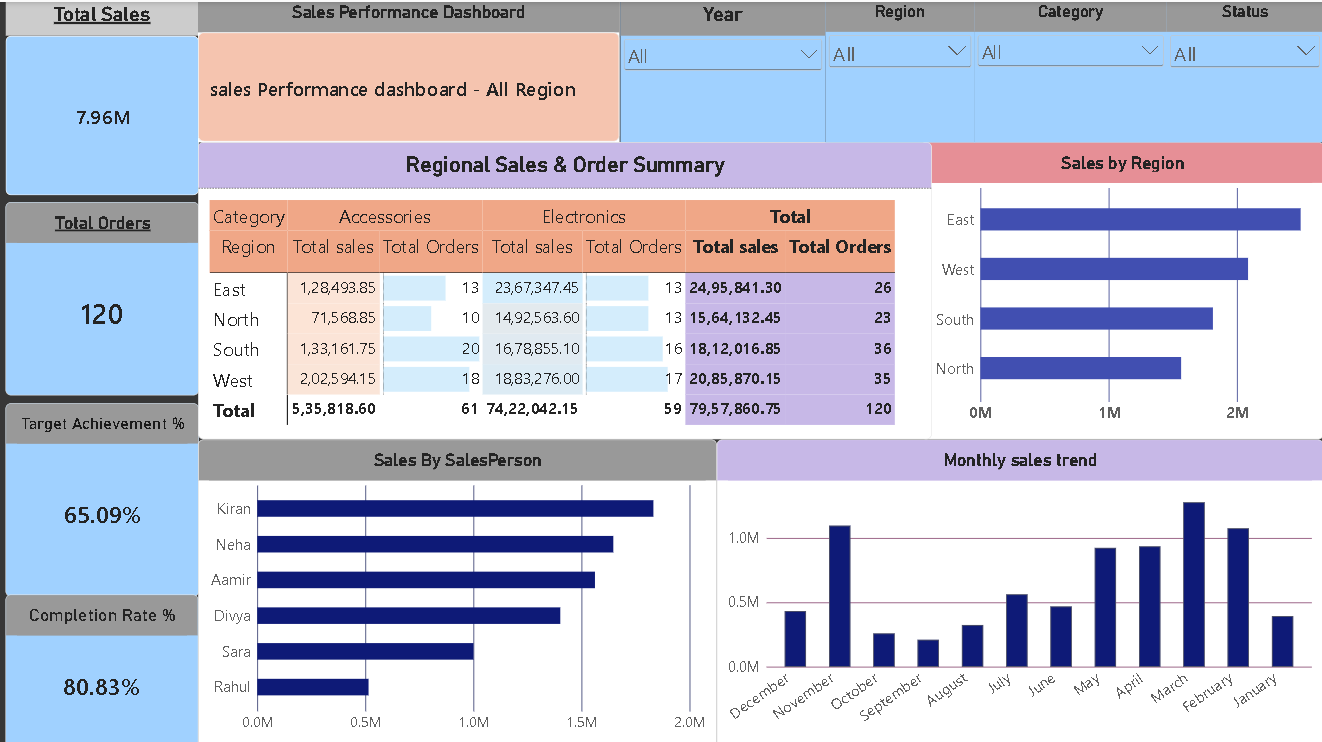

The dashboard page shown, as its layout file describes it:
{"tool":"powerbi","page":{"name":"Page 1","canvas":[1920,1080],"ordinal":0},"visuals":[{"type":"cardVisual","title":"Total Sales","fields":{"Data":["SalesDataTable.Total sales"]},"box":[10,0,280,280],"z":0},{"type":"card","title":"Total Orders","fields":{"Values":["SalesDataTable.Total Orders"]},"box":[10,290,280,280],"z":1000},{"type":"card","title":"Target Achievement %","fields":{"Values":["SalesDataTable.Total Achievment %"]},"box":[10,580,280,280],"z":2000},{"type":"card","title":"Completion Rate %","fields":{"Values":["SalesDataTable.Completion Rate %"]},"box":[10.8,857,279.2,222.9],"z":3000},{"type":"columnChart","title":"Monthly sales trend","fields":{"Category":["DateTable.Month"],"Y":["SalesDataTable.Total sales"]},"box":[1041,634.1,878.6,445.8],"z":4000},{"type":"clusteredBarChart","title":"Sales by Region","fields":{"Category":["SalesDataTable.Region"],"Y":["SalesDataTable.Total sales"]},"box":[1335.3,203.4,584.3,430.7],"z":5000},{"type":"slicer","title":"Year","fields":{"Values":["DateTable.Year"]},"box":[900.9,0,296.7,202.9],"z":6000},{"type":"clusteredBarChart","title":"Sales By SalesPerson","fields":{"Category":["SalesDataTable.Salesperson"],"Y":["SalesDataTable.Total sales"]},"box":[290,634.1,751,445.8],"z":7000},{"type":"pivotTable","title":"Regional Sales & Order Summary","fields":{"Columns":["SalesDataTable.Category"],"Rows":["SalesDataTable.Region"],"Values":["SalesDataTable.Total sales","SalesDataTable.Total Orders"]},"box":[290,203.4,1062.6,430.7],"z":8000},{"type":"slicer","title":"Region","fields":{"Values":["SalesDataTable.Region"]},"box":[1197.6,0,216,202.9],"z":9000},{"type":"slicer","title":"Category","fields":{"Values":["SalesDataTable.Category"]},"box":[1413.5,0,279.2,202.9],"z":10000},{"type":"slicer","title":"Status","fields":{"Values":["SalesDataTable.Status"]},"box":[1692.7,0,226.9,202.9],"z":11000},{"type":"cardVisual","title":"Sales Performance Dashboard","fields":{"Data":["SalesDataTable.Dynamic Report Title"]},"box":[290.1,0,610.8,202.9],"z":12000}]}

Visuals, with their boxes in screenshot pixels (x1, y1, x2, y2), scaled from the page's 1920x1080 canvas onto the 1322x742 screenshot:
"Total Sales" cardVisual: <bbox>7, 0, 200, 192</bbox>
"Total Orders" card: <bbox>7, 199, 200, 392</bbox>
"Target Achievement %" card: <bbox>7, 398, 200, 591</bbox>
"Completion Rate %" card: <bbox>7, 589, 200, 741</bbox>
"Monthly sales trend" columnChart: <bbox>717, 436, 1321, 741</bbox>
"Sales by Region" clusteredBarChart: <bbox>919, 140, 1321, 436</bbox>
"Year" slicer: <bbox>620, 0, 825, 139</bbox>
"Sales By SalesPerson" clusteredBarChart: <bbox>200, 436, 717, 741</bbox>
"Regional Sales & Order Summary" pivotTable: <bbox>200, 140, 931, 436</bbox>
"Region" slicer: <bbox>825, 0, 973, 139</bbox>
"Category" slicer: <bbox>973, 0, 1165, 139</bbox>
"Status" slicer: <bbox>1165, 0, 1321, 139</bbox>
"Sales Performance Dashboard" cardVisual: <bbox>200, 0, 620, 139</bbox>
